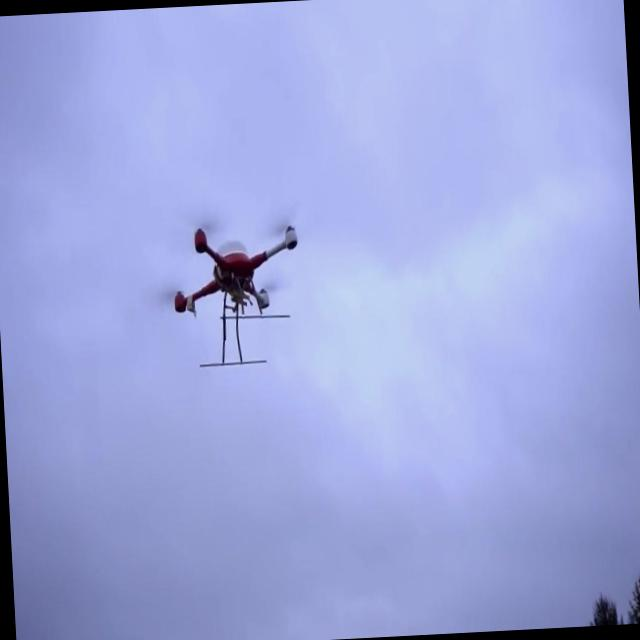drone: (168, 220, 306, 372)
